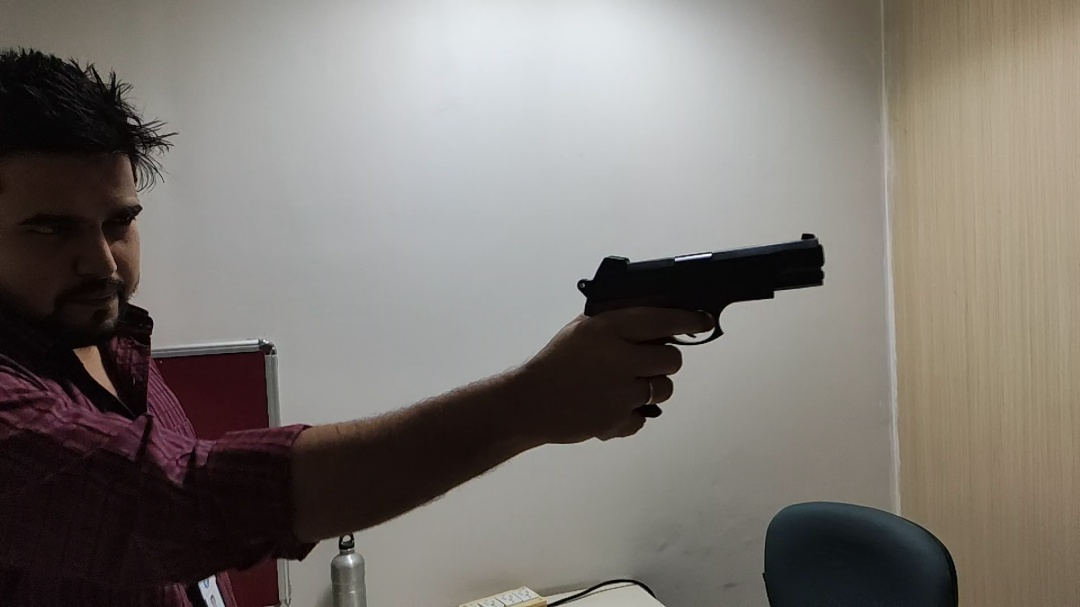gun: (573, 232, 831, 421)
